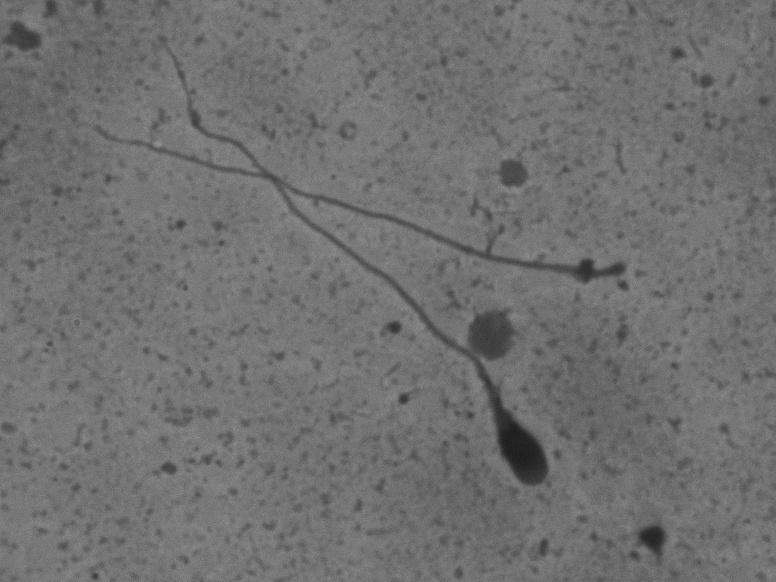Abnormal: (144, 28, 561, 498)
